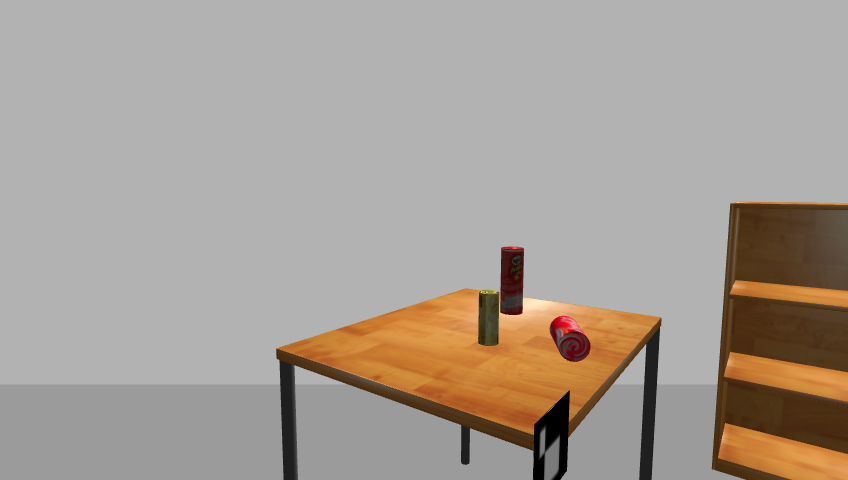aruco marker: (530, 393, 572, 480)
biscuits pack: (478, 290, 500, 347)
bookshelf: (707, 202, 848, 479)
coke can: (548, 315, 592, 362)
dinner table: (271, 289, 669, 479)
pringles can: (498, 245, 526, 317)
